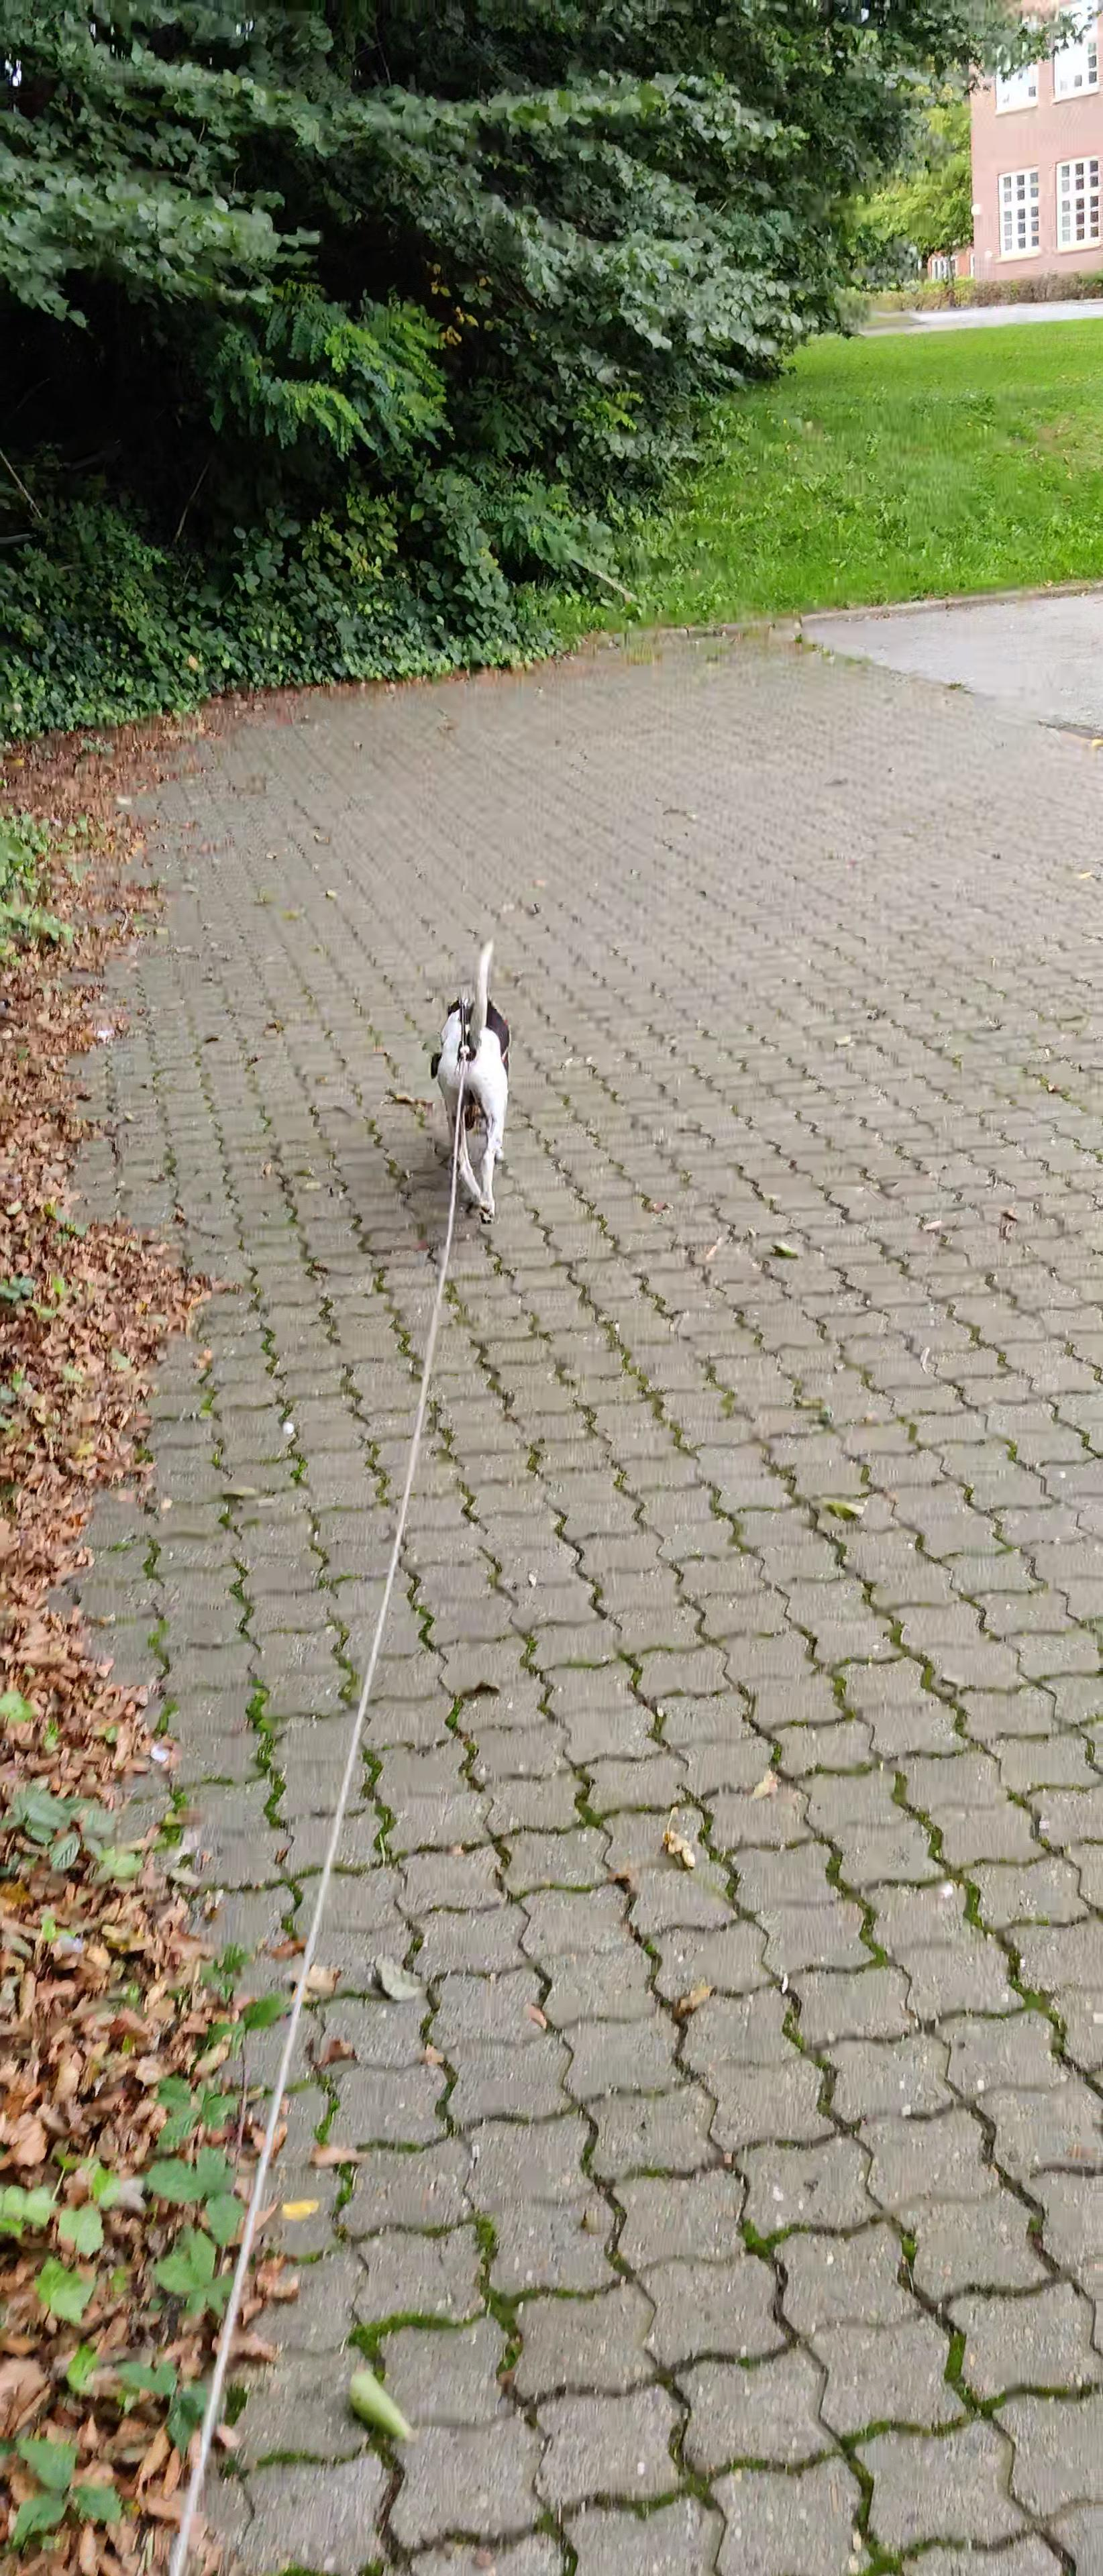Dog: (422, 922, 519, 1237)
